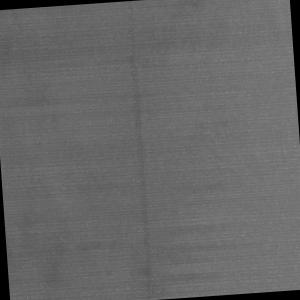Stain: (115, 1, 169, 300)
